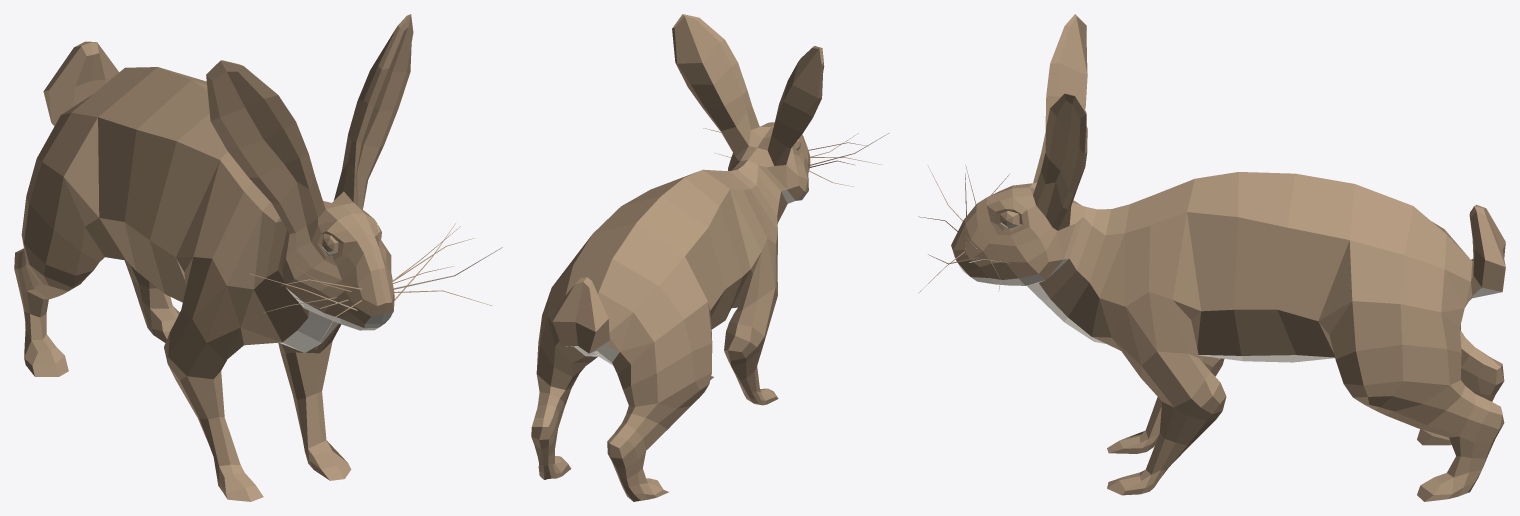
Rendered from Rabbit.fbx.
The picture shows the model from 3 angles, left to right: view 1: azimuth 30°, elevation 25°; view 2: azimuth 150°, elevation 25°; view 3: azimuth 270°, elevation 25°; orthographic projection. The views are drawn at different scales.
Visible parts, largest first — view 1: Body, LegBL, Head, LegFL, LegFR, Tail1, LegBR; view 2: Body, LegBL, LegBR, LegFL, Tail1, Head; view 3: Body, LegBR, LegFR, Head, Tail1, LegBL, LegFL.
Part boxes in pixels (x1,y1,x2,y2): Body: (72, 14, 413, 352); LegBL: (14, 95, 136, 376); Head: (249, 169, 502, 349); LegFL: (164, 257, 281, 501); LegFR: (278, 323, 351, 480); Tail1: (43, 41, 119, 126); LegBR: (124, 260, 179, 342); Body: (573, 14, 824, 365); LegBL: (599, 256, 724, 501); LegBR: (531, 235, 611, 479); LegFL: (724, 232, 778, 405); Tail1: (552, 277, 633, 362); Head: (703, 122, 888, 200); Body: (1027, 14, 1413, 362); LegBR: (1277, 206, 1504, 501); LegFR: (1092, 292, 1226, 495); Head: (918, 164, 1063, 293); Tail1: (1444, 204, 1505, 307); LegBL: (1417, 221, 1504, 445); LegFL: (1107, 355, 1224, 453).
Bounding box in the file's own units: 0.898 × 1.87 × 2.4.
Materials: 1 (1 with a texture image).
